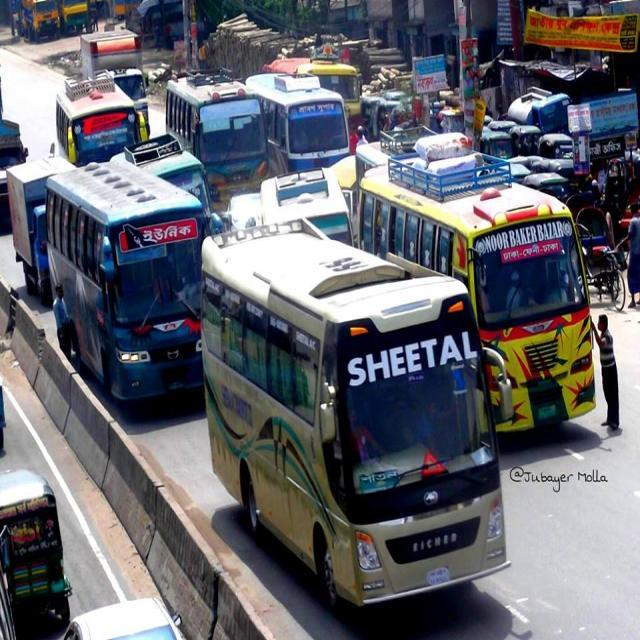bus: (200, 213, 515, 616), (357, 128, 597, 435), (46, 158, 226, 404)
